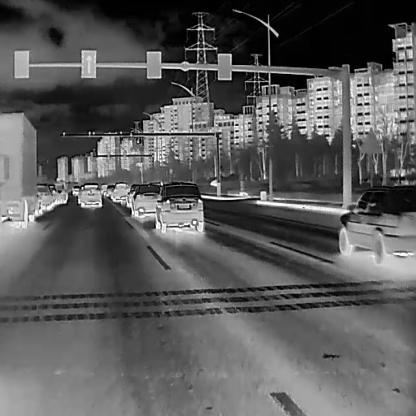car: (338, 183, 415, 265), (153, 180, 203, 232), (129, 183, 163, 217), (79, 182, 100, 207), (36, 182, 53, 211), (110, 181, 130, 203), (52, 182, 68, 203), (49, 183, 60, 205), (104, 183, 114, 196), (99, 181, 109, 194), (70, 184, 80, 195)
truck: (0, 110, 36, 228)
